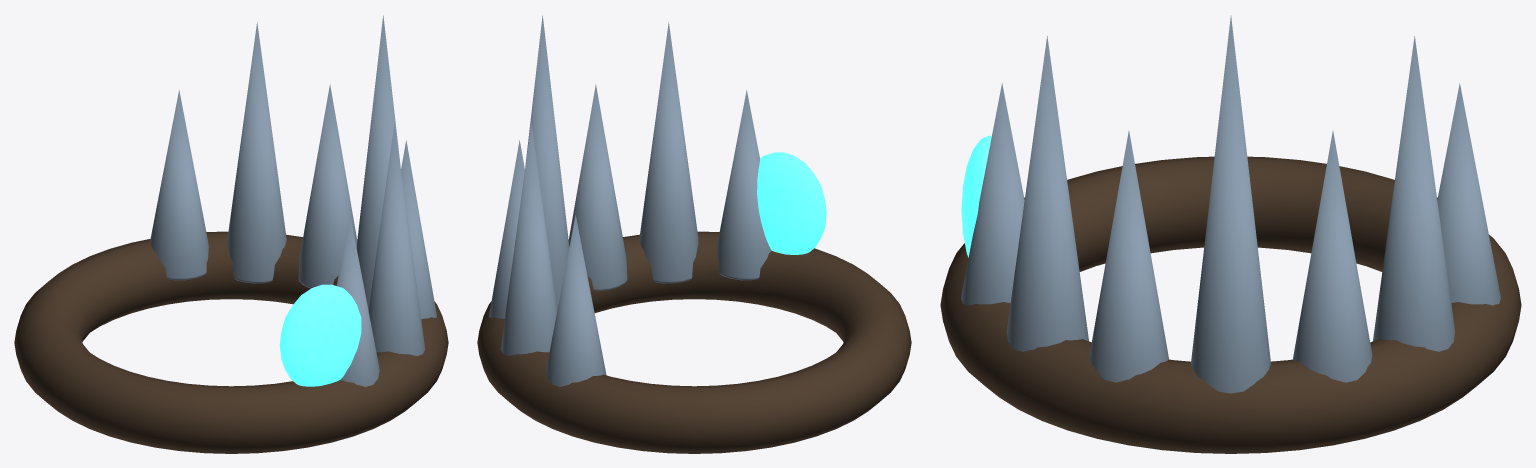
Rendered from crown_v6.glb.
3 renders of one model, left to right at view 1: azimuth 30°, elevation 25°; view 2: azimuth 150°, elevation 25°; view 3: azimuth 270°, elevation 25°, orthographic. The views are drawn at different scales.
Parts seen in each view (by area): view 1: BONE_CROWN_BAND_SECONDARY, BONE_POINT_PRIMARY.005, BONE_POINT_PRIMARY.001, BONE_CROWN_EYE_EMISSIVE, BONE_POINT_PRIMARY.006, BONE_POINT_PRIMARY.004, BONE_POINT_PRIMARY.003, BONE_POINT_PRIMARY, BONE_POINT_PRIMARY.002; view 2: BONE_CROWN_BAND_SECONDARY, BONE_POINT_PRIMARY.001, BONE_POINT_PRIMARY.005, BONE_POINT_PRIMARY.002, BONE_CROWN_EYE_EMISSIVE, BONE_POINT_PRIMARY, BONE_POINT_PRIMARY.006, BONE_POINT_PRIMARY.003, BONE_POINT_PRIMARY.004; view 3: BONE_CROWN_BAND_SECONDARY, BONE_POINT_PRIMARY.003, BONE_POINT_PRIMARY.001, BONE_POINT_PRIMARY.005, BONE_POINT_PRIMARY.002, BONE_POINT_PRIMARY.004, BONE_POINT_PRIMARY.006, BONE_POINT_PRIMARY, BONE_CROWN_EYE_EMISSIVE.
Part boxes in pixels (<box>): BONE_CROWN_BAND_SECONDARY: <box>14,231,448,453</box>; BONE_POINT_PRIMARY.005: <box>227,22,286,283</box>; BONE_POINT_PRIMARY.001: <box>368,122,425,355</box>; BONE_CROWN_EYE_EMISSIVE: <box>279,284,361,386</box>; BONE_POINT_PRIMARY.006: <box>150,90,208,280</box>; BONE_POINT_PRIMARY.004: <box>298,84,357,288</box>; BONE_POINT_PRIMARY.003: <box>356,15,400,309</box>; BONE_POINT_PRIMARY: <box>336,215,379,386</box>; BONE_POINT_PRIMARY.002: <box>401,140,436,318</box>; BONE_CROWN_BAND_SECONDARY: <box>477,231,911,453</box>; BONE_POINT_PRIMARY.001: <box>639,22,698,283</box>; BONE_POINT_PRIMARY.005: <box>500,122,557,355</box>; BONE_POINT_PRIMARY.002: <box>568,84,627,290</box>; BONE_CROWN_EYE_EMISSIVE: <box>757,152,826,254</box>; BONE_POINT_PRIMARY: <box>717,90,771,280</box>; BONE_POINT_PRIMARY.006: <box>546,215,606,386</box>; BONE_POINT_PRIMARY.003: <box>525,15,569,309</box>; BONE_POINT_PRIMARY.004: <box>489,140,524,318</box>; BONE_CROWN_BAND_SECONDARY: <box>940,156,1521,453</box>; BONE_POINT_PRIMARY.003: <box>1190,15,1271,393</box>; BONE_POINT_PRIMARY.001: <box>1007,36,1088,351</box>; BONE_POINT_PRIMARY.005: <box>1373,36,1454,351</box>; BONE_POINT_PRIMARY.002: <box>1089,131,1168,382</box>; BONE_POINT_PRIMARY.004: <box>1293,131,1372,382</box>; BONE_POINT_PRIMARY.006: <box>1437,83,1500,305</box>; BONE_POINT_PRIMARY: <box>961,83,1024,305</box>; BONE_CROWN_EYE_EMISSIVE: <box>961,135,991,257</box>.
Bounding box in the file's own units: 1.66 × 1.36 × 1.66.
